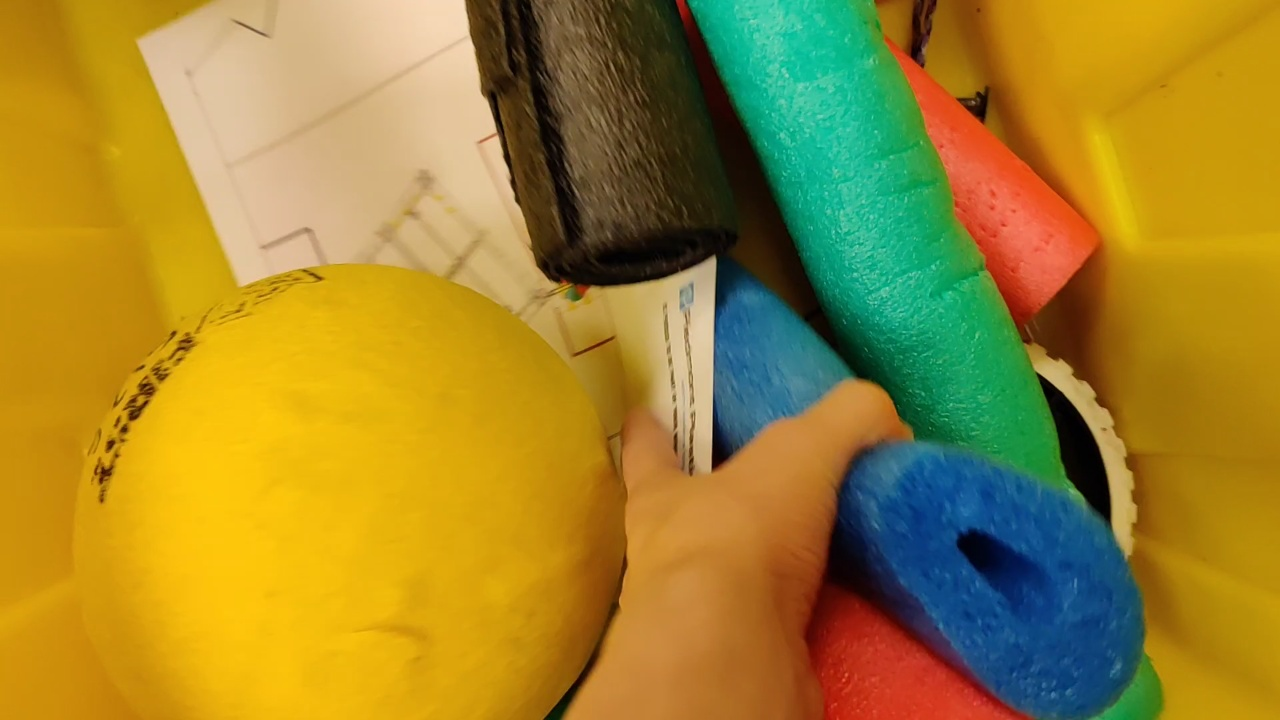Ball: (70, 264, 622, 720)
